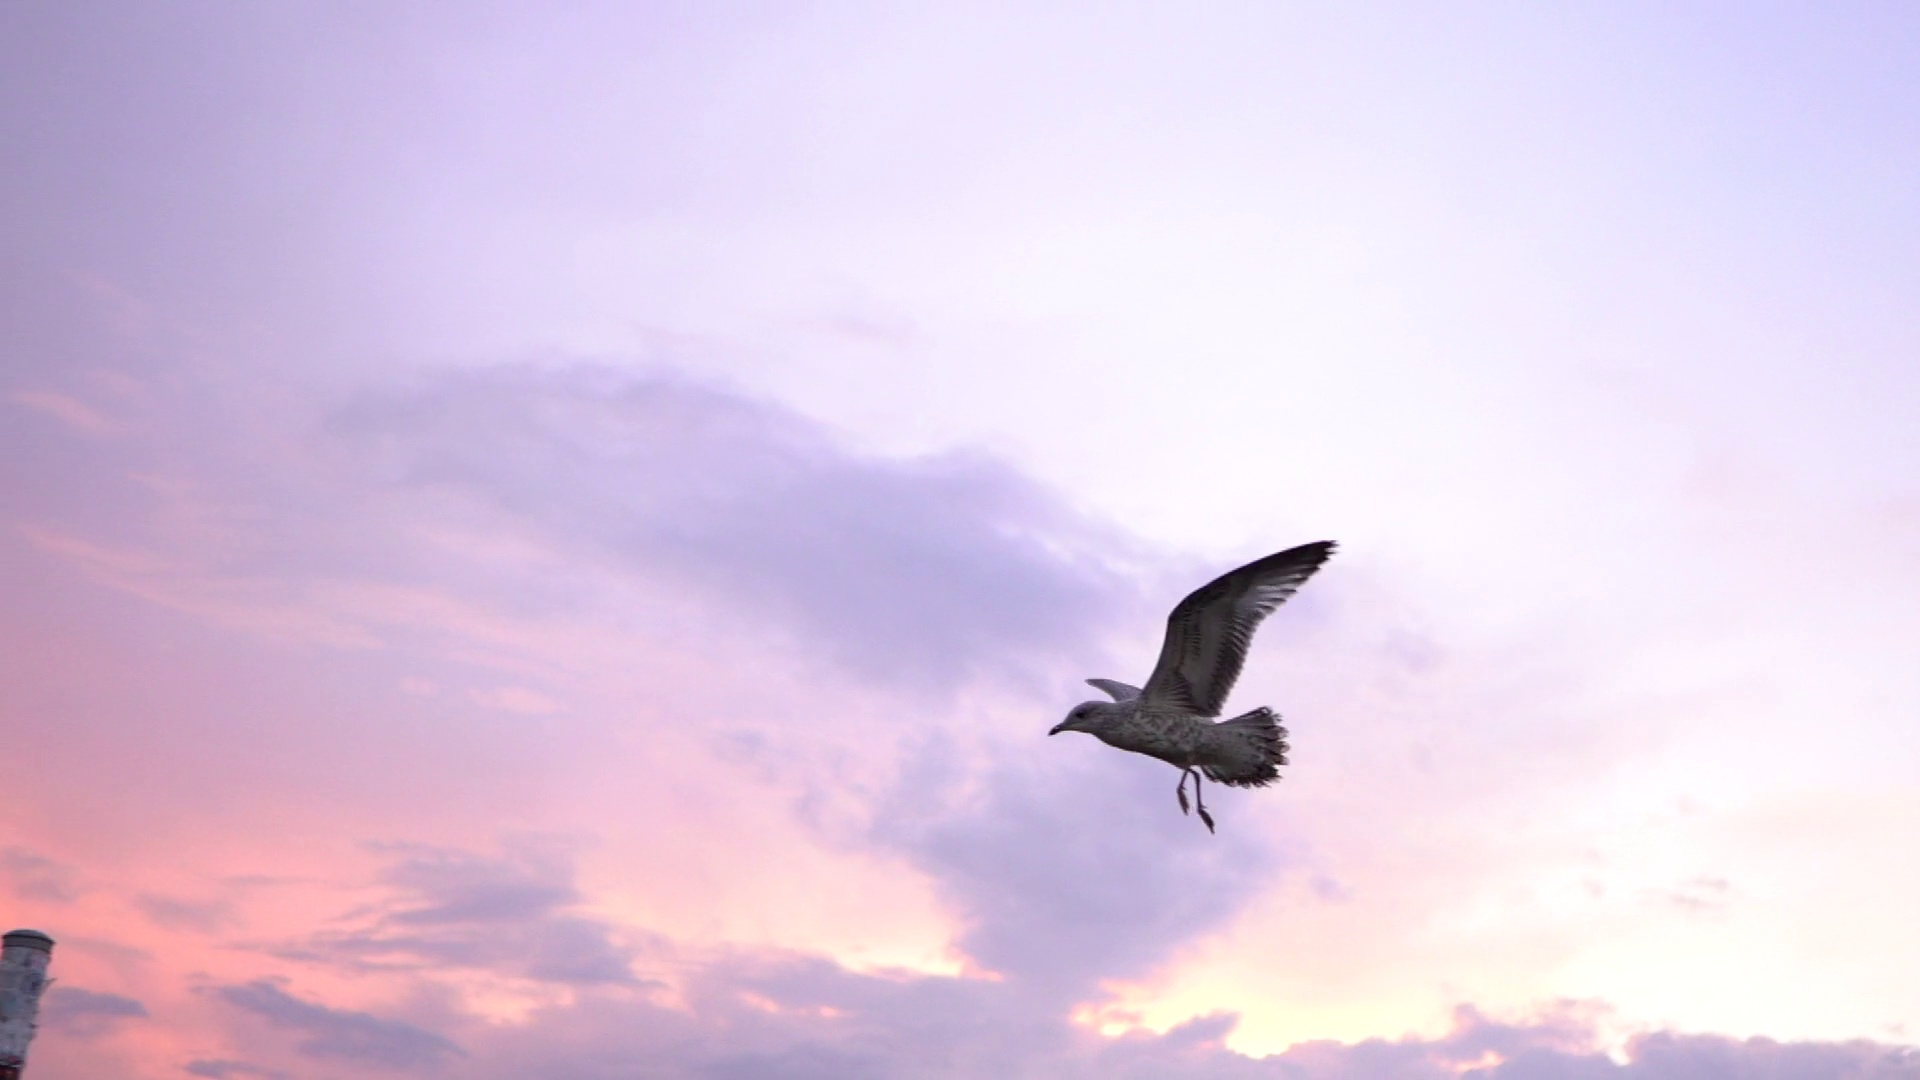bird: (1044, 535, 1338, 837)
